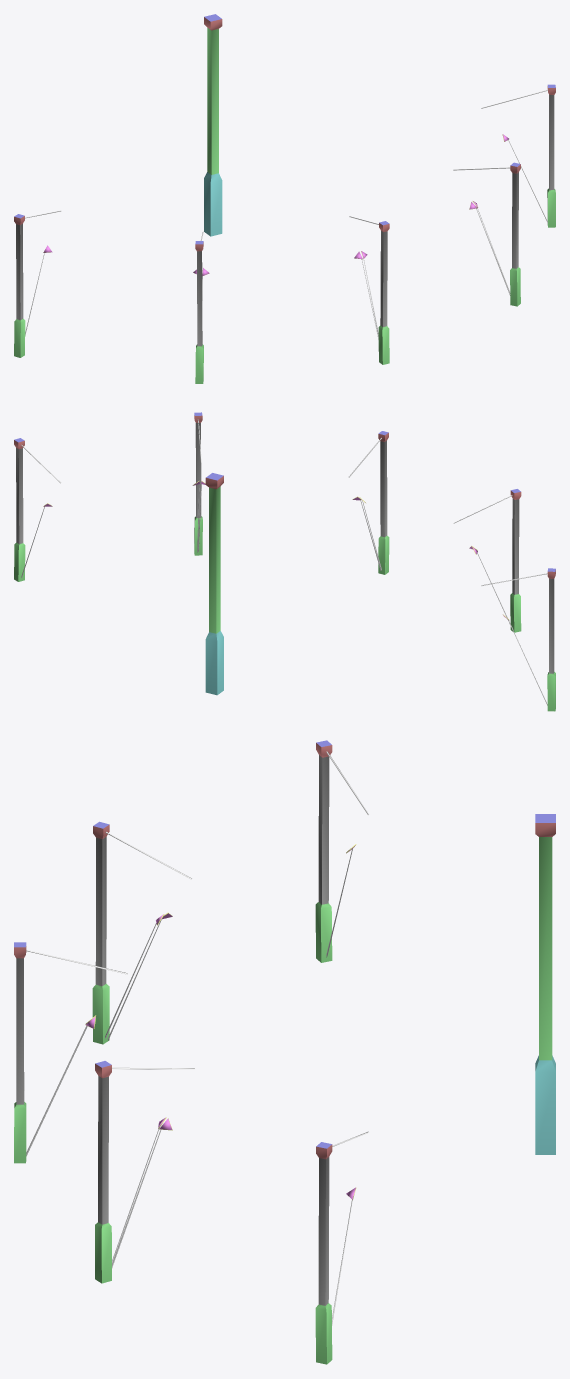
File: L2fortress_02_s__Fort02_warehouse.gltf
3 views of the same model, one above another, from view 1: azimuth 30°, elevation 25°; view 2: azimuth 150°, elevation 25°; view 3: azimuth 270°, elevation 25° (orthographic). The views are drawn at different scales.
Parts seen in each view (by area): view 1: Fort02_warehouse; view 2: Fort02_warehouse; view 3: Fort02_warehouse.
Part boxes in pixels (x1,y1,x2,y2): Fort02_warehouse: (14, 14, 555, 383); Fort02_warehouse: (14, 412, 555, 711); Fort02_warehouse: (14, 740, 555, 1364).
Bounding box in the file's own units: 7.52 × 2.93 × 4.22.
